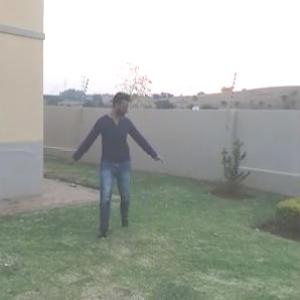land: (68, 92, 162, 238)
